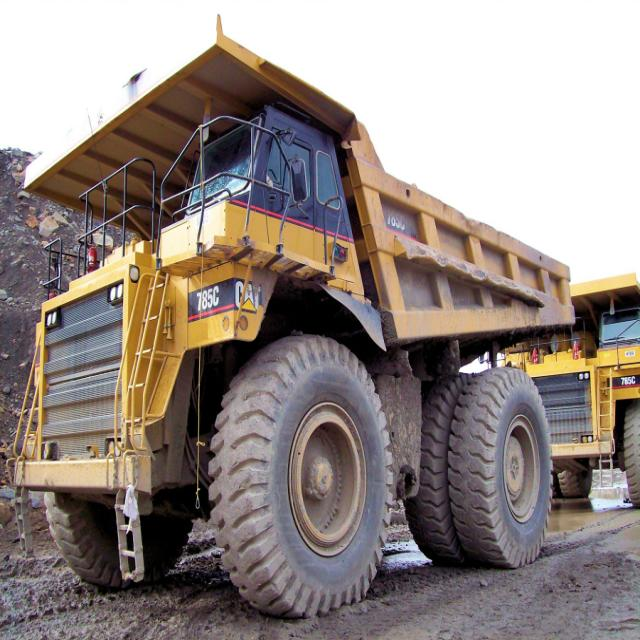dump_truck: (23, 11, 584, 618)
